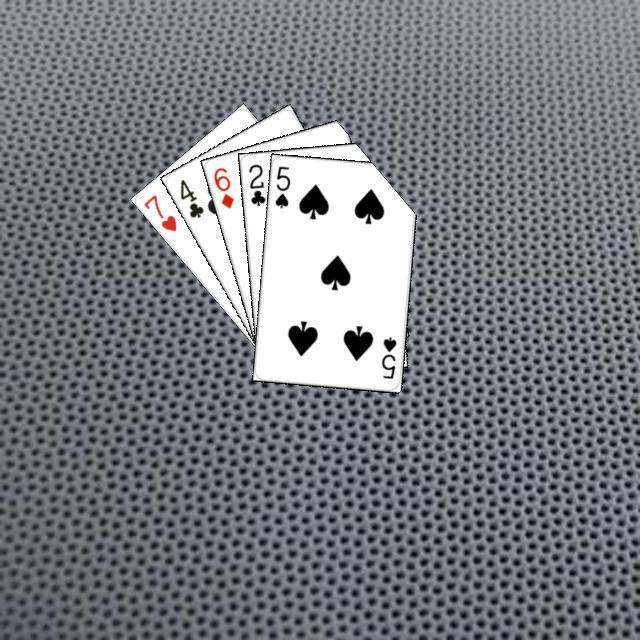2c: (244, 159, 267, 208)
4c: (175, 174, 205, 220)
5s: (270, 161, 292, 210), (376, 332, 398, 380)
6d: (209, 162, 236, 210)
7h: (138, 190, 178, 233)
